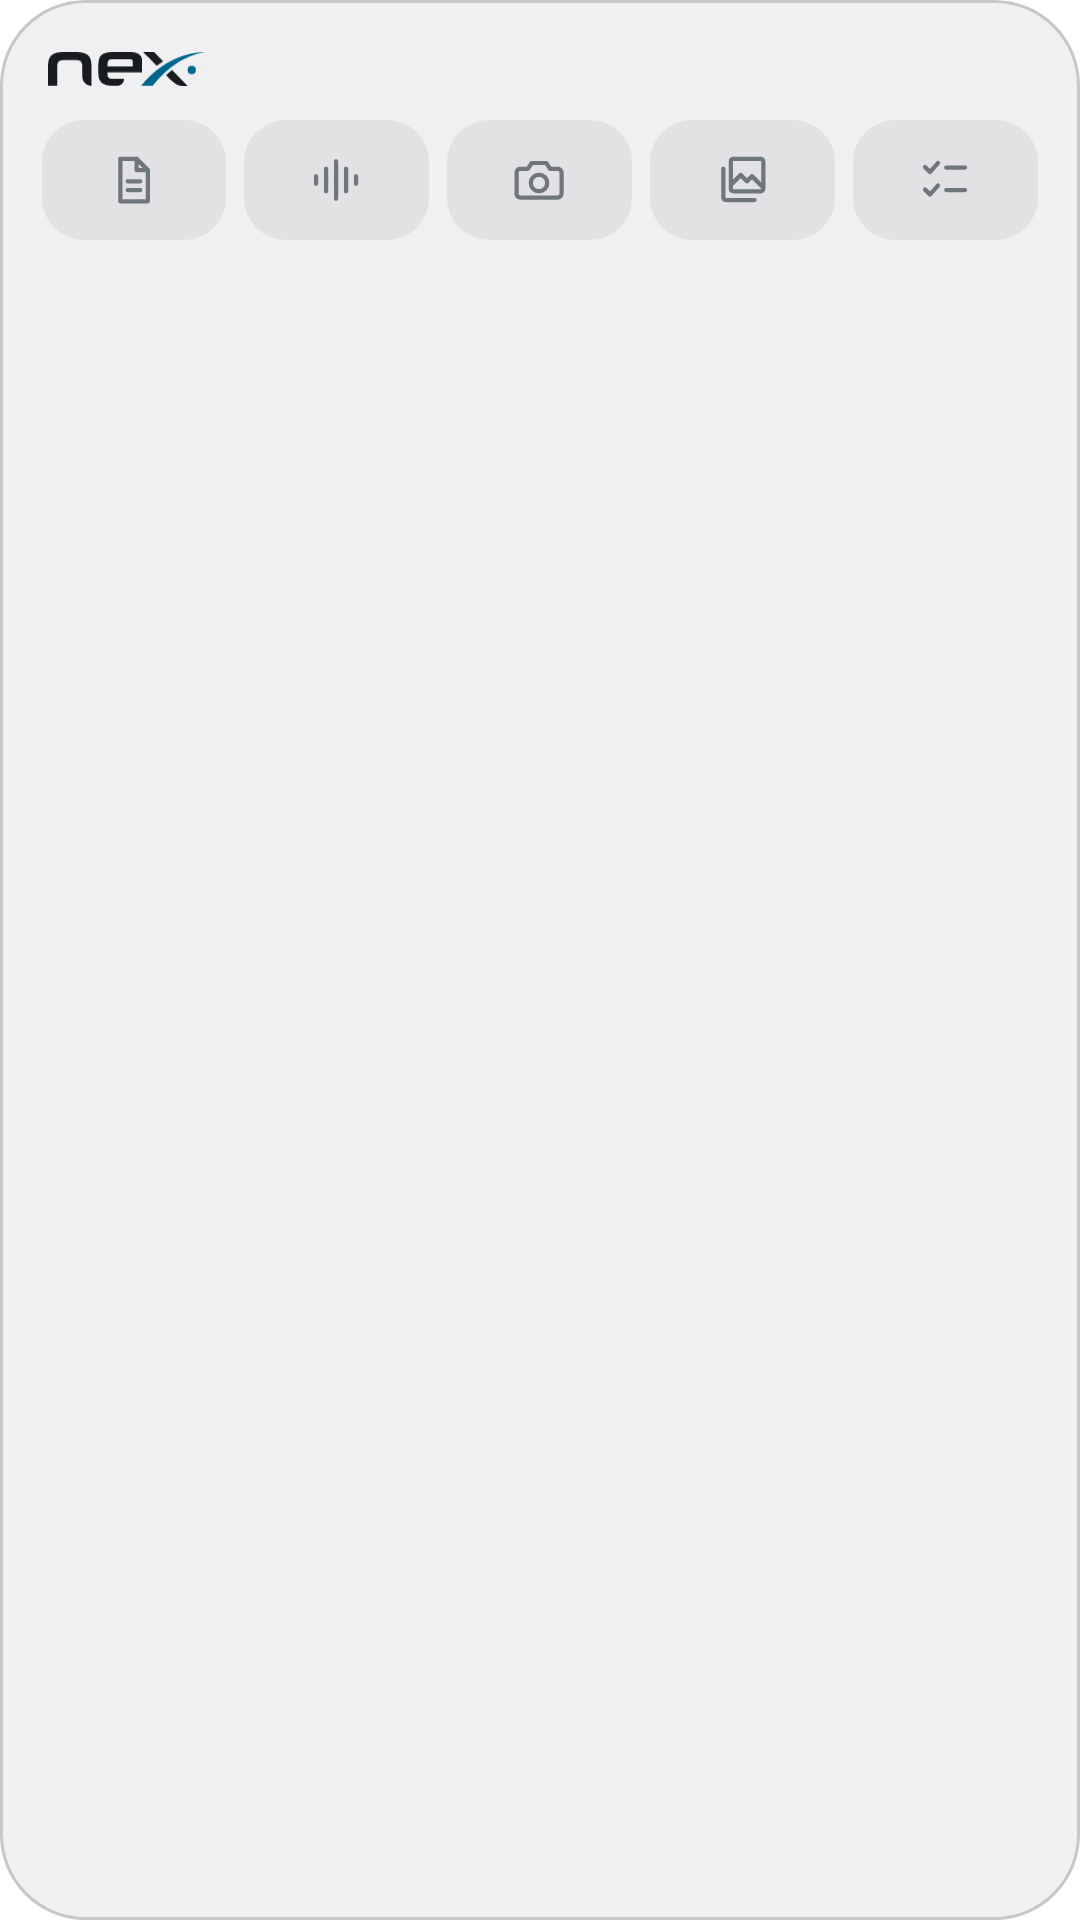

Icon bounding boxes for this 1080×1920 phone screenshot, format rect(x1, y1, x2, y2):
nex widget camera: rect(514, 161, 564, 200)
nex widget gallery: rect(721, 156, 766, 203)
nex widget type checklist: rect(923, 161, 967, 197)
nex widget type text: rect(118, 156, 150, 204)
nex widget type voice: rect(314, 159, 359, 201)
